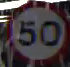Speed limit: (8, 0, 68, 62)
